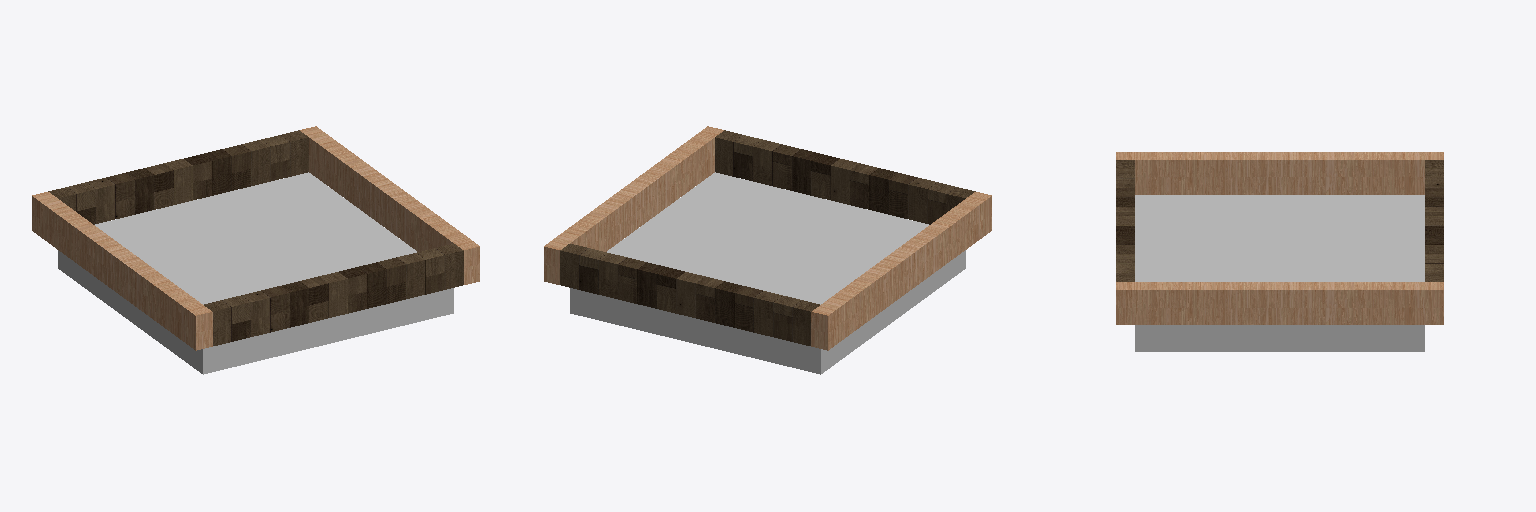
3 renders of one model, left to right at view 1: azimuth 30°, elevation 25°; view 2: azimuth 150°, elevation 25°; view 3: azimuth 270°, elevation 25°, orthographic.
Parts seen in each view (by area): view 1: Cube, Cube.005, Cube.002, Cube.006, Cube.003; view 2: Cube, Cube.002, Cube.005, Cube.006, Cube.003; view 3: Cube, Cube.003, Cube.006, Cube.002, Cube.005.
Boxes of the visible parts, x1=… form: Cube: x1=58, y1=172, x2=453, y2=374; Cube.005: x1=204, y1=244, x2=463, y2=345; Cube.002: x1=48, y1=130, x2=308, y2=224; Cube.006: x1=32, y1=192, x2=212, y2=350; Cube.003: x1=300, y1=126, x2=479, y2=284; Cube: x1=570, y1=172, x2=965, y2=374; Cube.002: x1=560, y1=244, x2=819, y2=345; Cube.005: x1=715, y1=130, x2=975, y2=224; Cube.006: x1=811, y1=192, x2=991, y2=350; Cube.003: x1=544, y1=126, x2=723, y2=284; Cube: x1=1135, y1=195, x2=1424, y2=351; Cube.003: x1=1116, y1=282, x2=1443, y2=324; Cube.006: x1=1116, y1=152, x2=1443, y2=194; Cube.002: x1=1425, y1=160, x2=1443, y2=281; Cube.005: x1=1116, y1=160, x2=1134, y2=281.
Size of the model in its own units: 170 by 39.98 by 170.
5 materials, 2 textured.